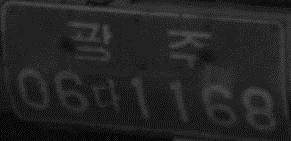0: (18, 66, 51, 112)
1: (164, 77, 195, 125), (127, 74, 156, 120)
6: (201, 83, 237, 128), (53, 70, 88, 113)
8: (241, 85, 278, 133)
광주_D: (67, 19, 208, 68)
다: (90, 79, 123, 116)
